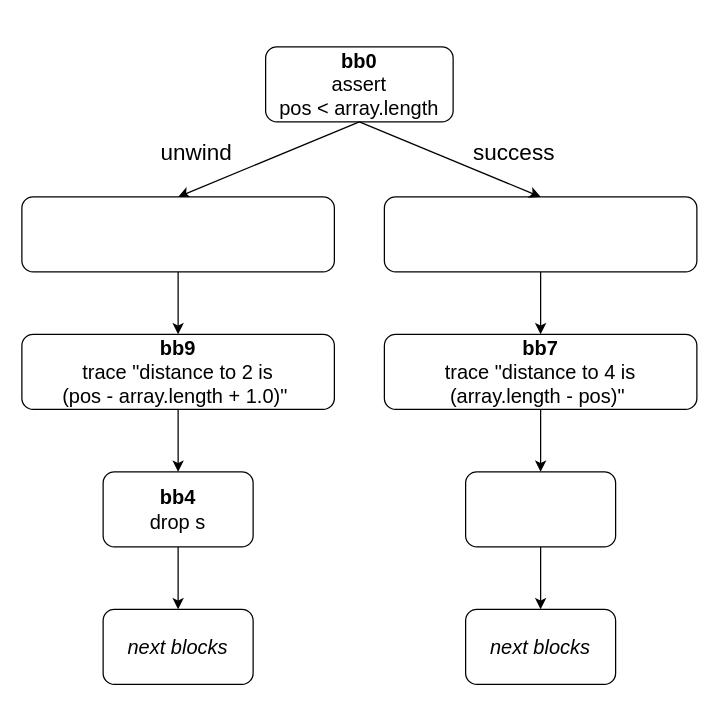
This 719x706 diagram has some shape labels left out. Here are the shapes that lost their labels. From the top down, the centre of each, then its label:
[177,234]: bb8 trace "distance to 4 is 0.0"
[540,234]: bb6 trace "distance to 2 is 0.0"
[540,509]: bb2 drop s access array
